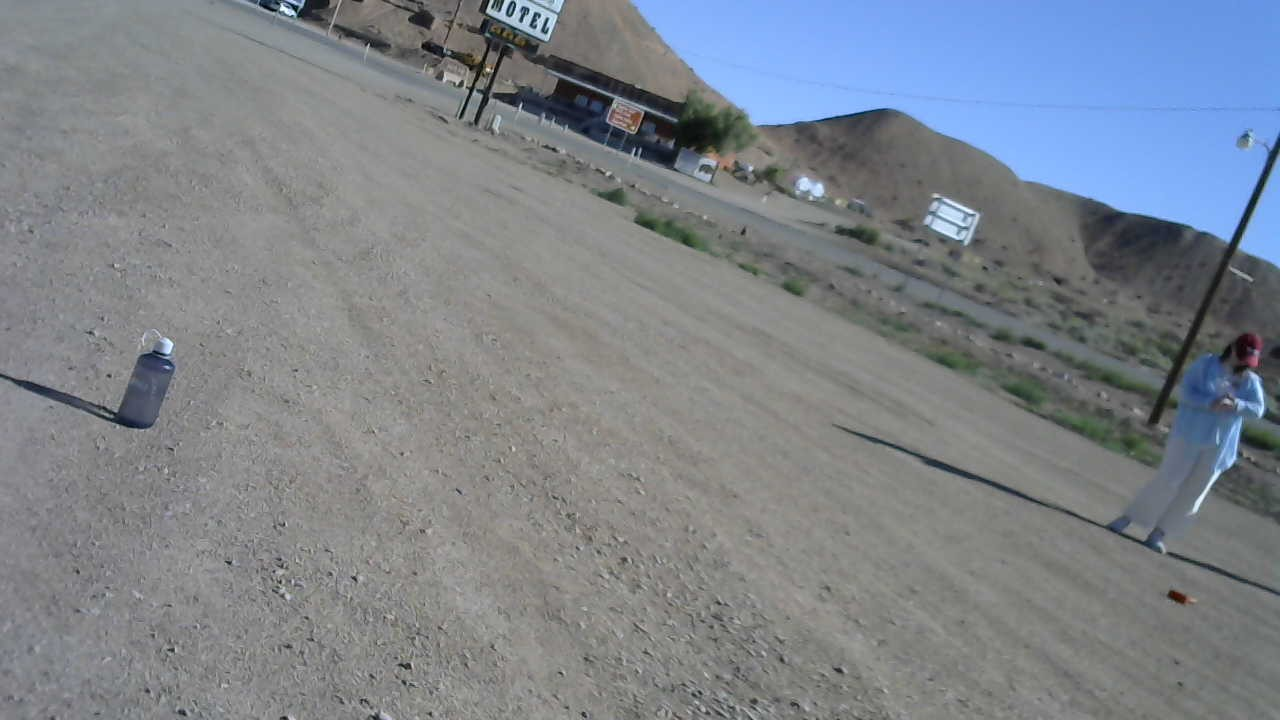bottle: (112, 328, 178, 431)
